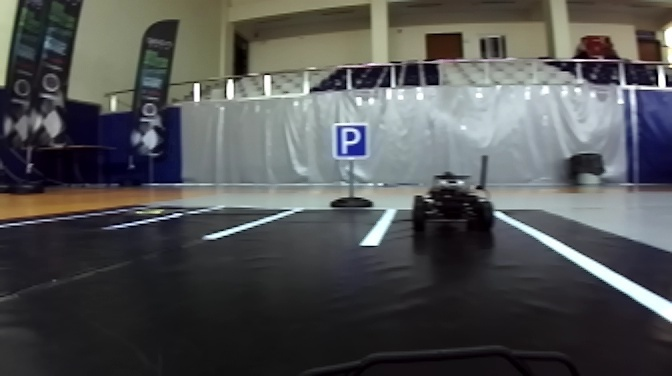park: (331, 123, 374, 162)
